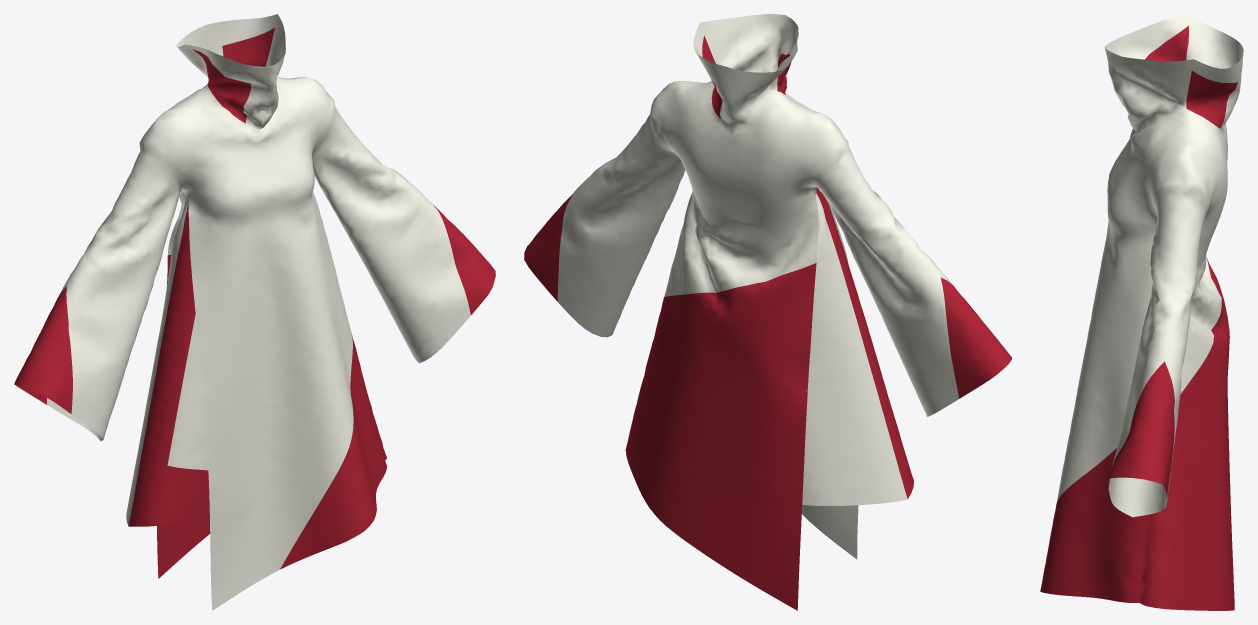
The model's file is Casaco.glb.
The picture shows the model from 3 angles, left to right: view 1: azimuth 30°, elevation 25°; view 2: azimuth 150°, elevation 25°; view 3: azimuth 270°, elevation 25°; orthographic projection. The views are drawn at different scales.
Parts seen in each view (by area): view 1: Cloth; view 2: Cloth; view 3: Cloth.
Part boxes in pixels (bbox=[...]): Cloth: bbox=[14, 14, 495, 610]; Cloth: bbox=[524, 14, 1011, 610]; Cloth: bbox=[1040, 14, 1243, 610].
Size of the model in its own units: 115 by 126 by 38.38.
Materials: 16 (16 with a texture image).
